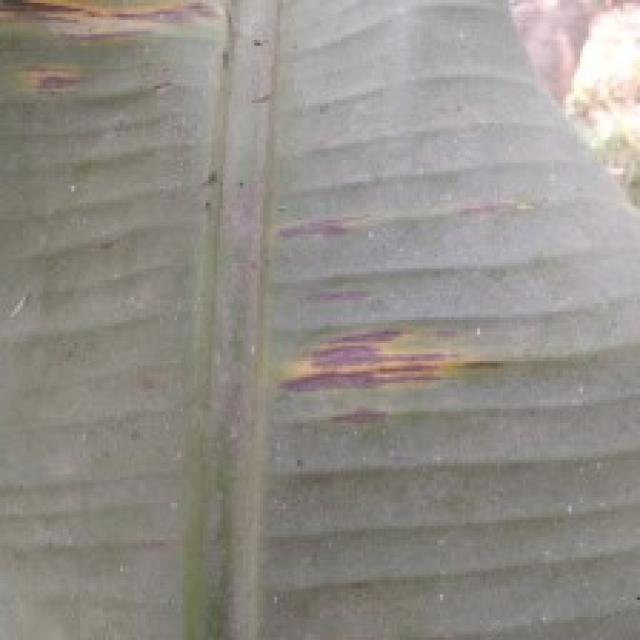Early_leaf_spot: (246, 176, 505, 454), (457, 0, 640, 191), (0, 0, 237, 117)
